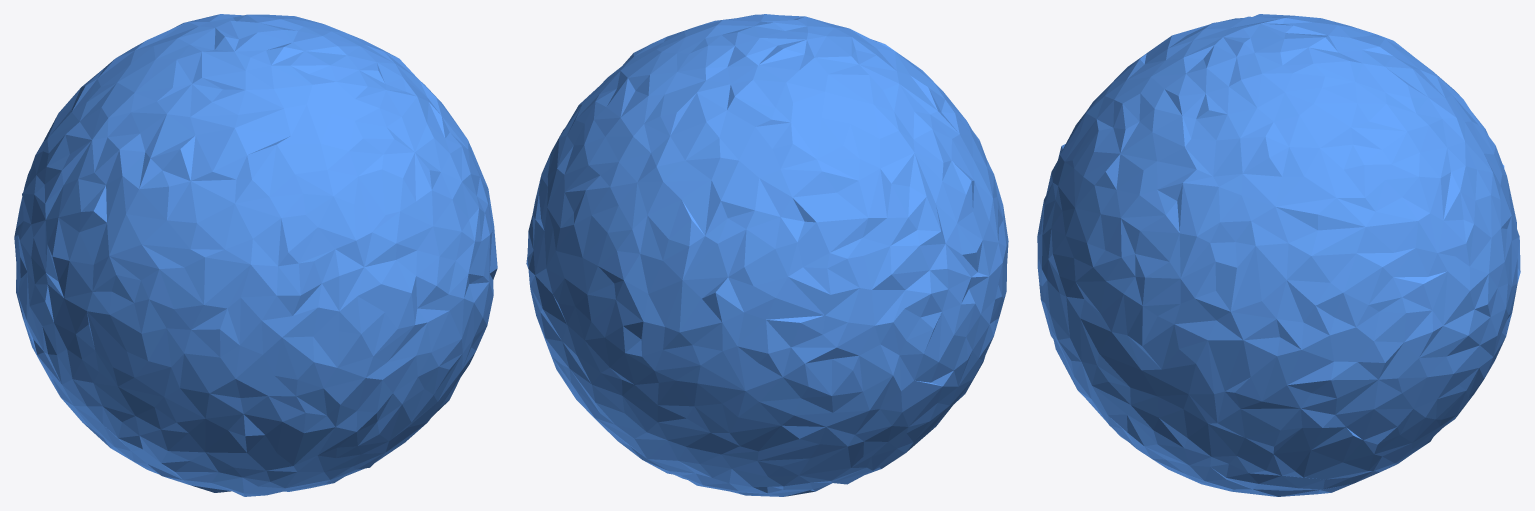
Rendered from neptune.gltf.
3 views of the same model, side by side, from view 1: azimuth 30°, elevation 25°; view 2: azimuth 150°, elevation 25°; view 3: azimuth 270°, elevation 25° (orthographic).
Parts seen in each view (by area): view 1: Neptune_Sphere_26; view 2: Neptune_Sphere_26; view 3: Neptune_Sphere_26.
Part boxes in pixels (x1,y1,x2,y2): Neptune_Sphere_26: (14,14,497,496); Neptune_Sphere_26: (526,14,1008,496); Neptune_Sphere_26: (1037,14,1520,496).
Size of the model in its own units: 0.0278 by 0.0279 by 0.0278.
